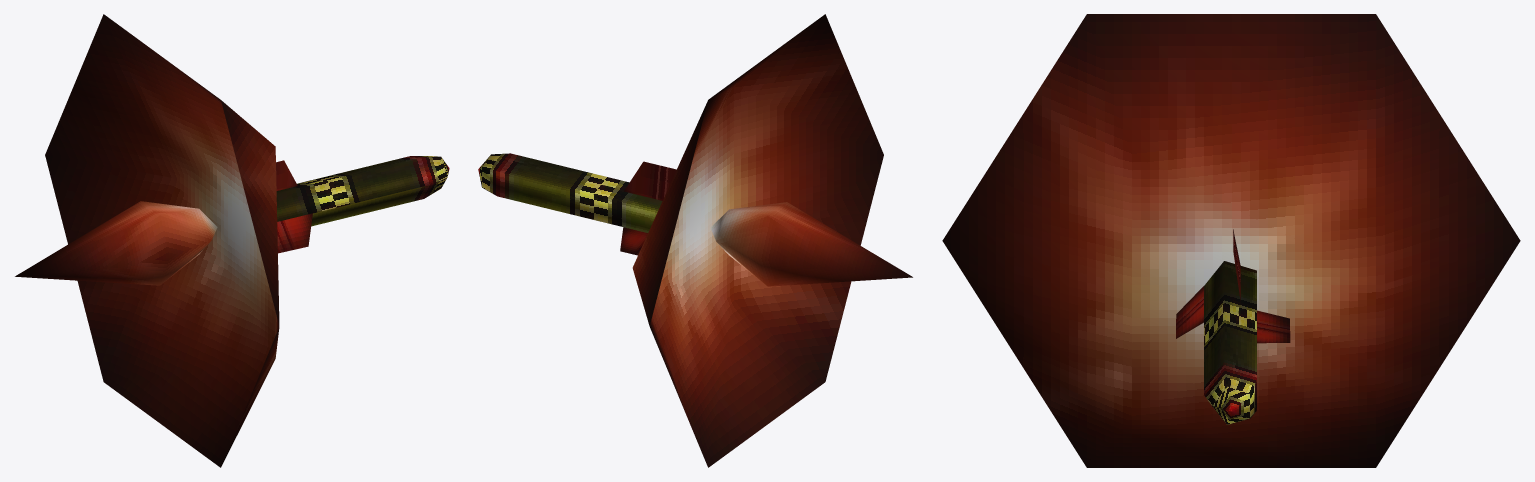
File: rocketout.fbx
3 renders of one model, left to right at view 1: azimuth 30°, elevation 25°; view 2: azimuth 150°, elevation 25°; view 3: azimuth 270°, elevation 25°, orthographic. The views are drawn at different scales.
Visible parts, largest first — view 1: flash, flare, rocket, fins; view 2: flash, flare, rocket, fins; view 3: flash, rocket, fins.
Boxes of the visible parts, box(x1,y1,x2,y2) form: flash: box(45, 14, 279, 467); flare: box(15, 201, 217, 285); rocket: box(276, 156, 449, 226); fins: box(276, 160, 312, 253); flash: box(632, 14, 883, 467); flare: box(710, 202, 912, 286); rocket: box(478, 153, 662, 232); fins: box(620, 161, 676, 255); flash: box(942, 14, 1520, 467); rocket: box(1204, 261, 1256, 424); fins: box(1176, 229, 1290, 343).
Size of the model in its own units: 24.19 by 19.55 by 22.56.
